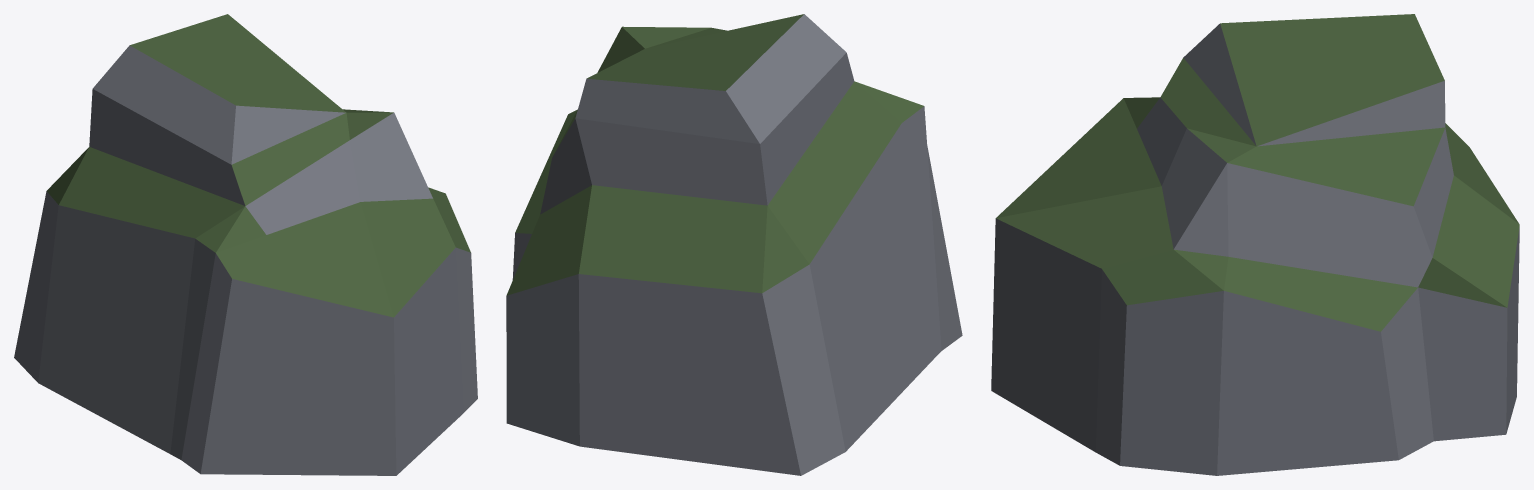
Rendered from Rock_Moss_7.glb.
3 renders of one model, left to right at view 1: azimuth 30°, elevation 25°; view 2: azimuth 150°, elevation 25°; view 3: azimuth 270°, elevation 25°, orthographic. The views are drawn at different scales.
Parts seen in each view (by area): view 1: Rock_Moss_7_Cube.028; view 2: Rock_Moss_7_Cube.028; view 3: Rock_Moss_7_Cube.028.
Part boxes in pixels (x1=…): Rock_Moss_7_Cube.028: x1=14, y1=14, x2=477, y2=475; Rock_Moss_7_Cube.028: x1=506, y1=14, x2=962, y2=475; Rock_Moss_7_Cube.028: x1=991, y1=14, x2=1519, y2=475.
Size of the model in its own units: 0.8756 by 0.7739 by 1.1.
